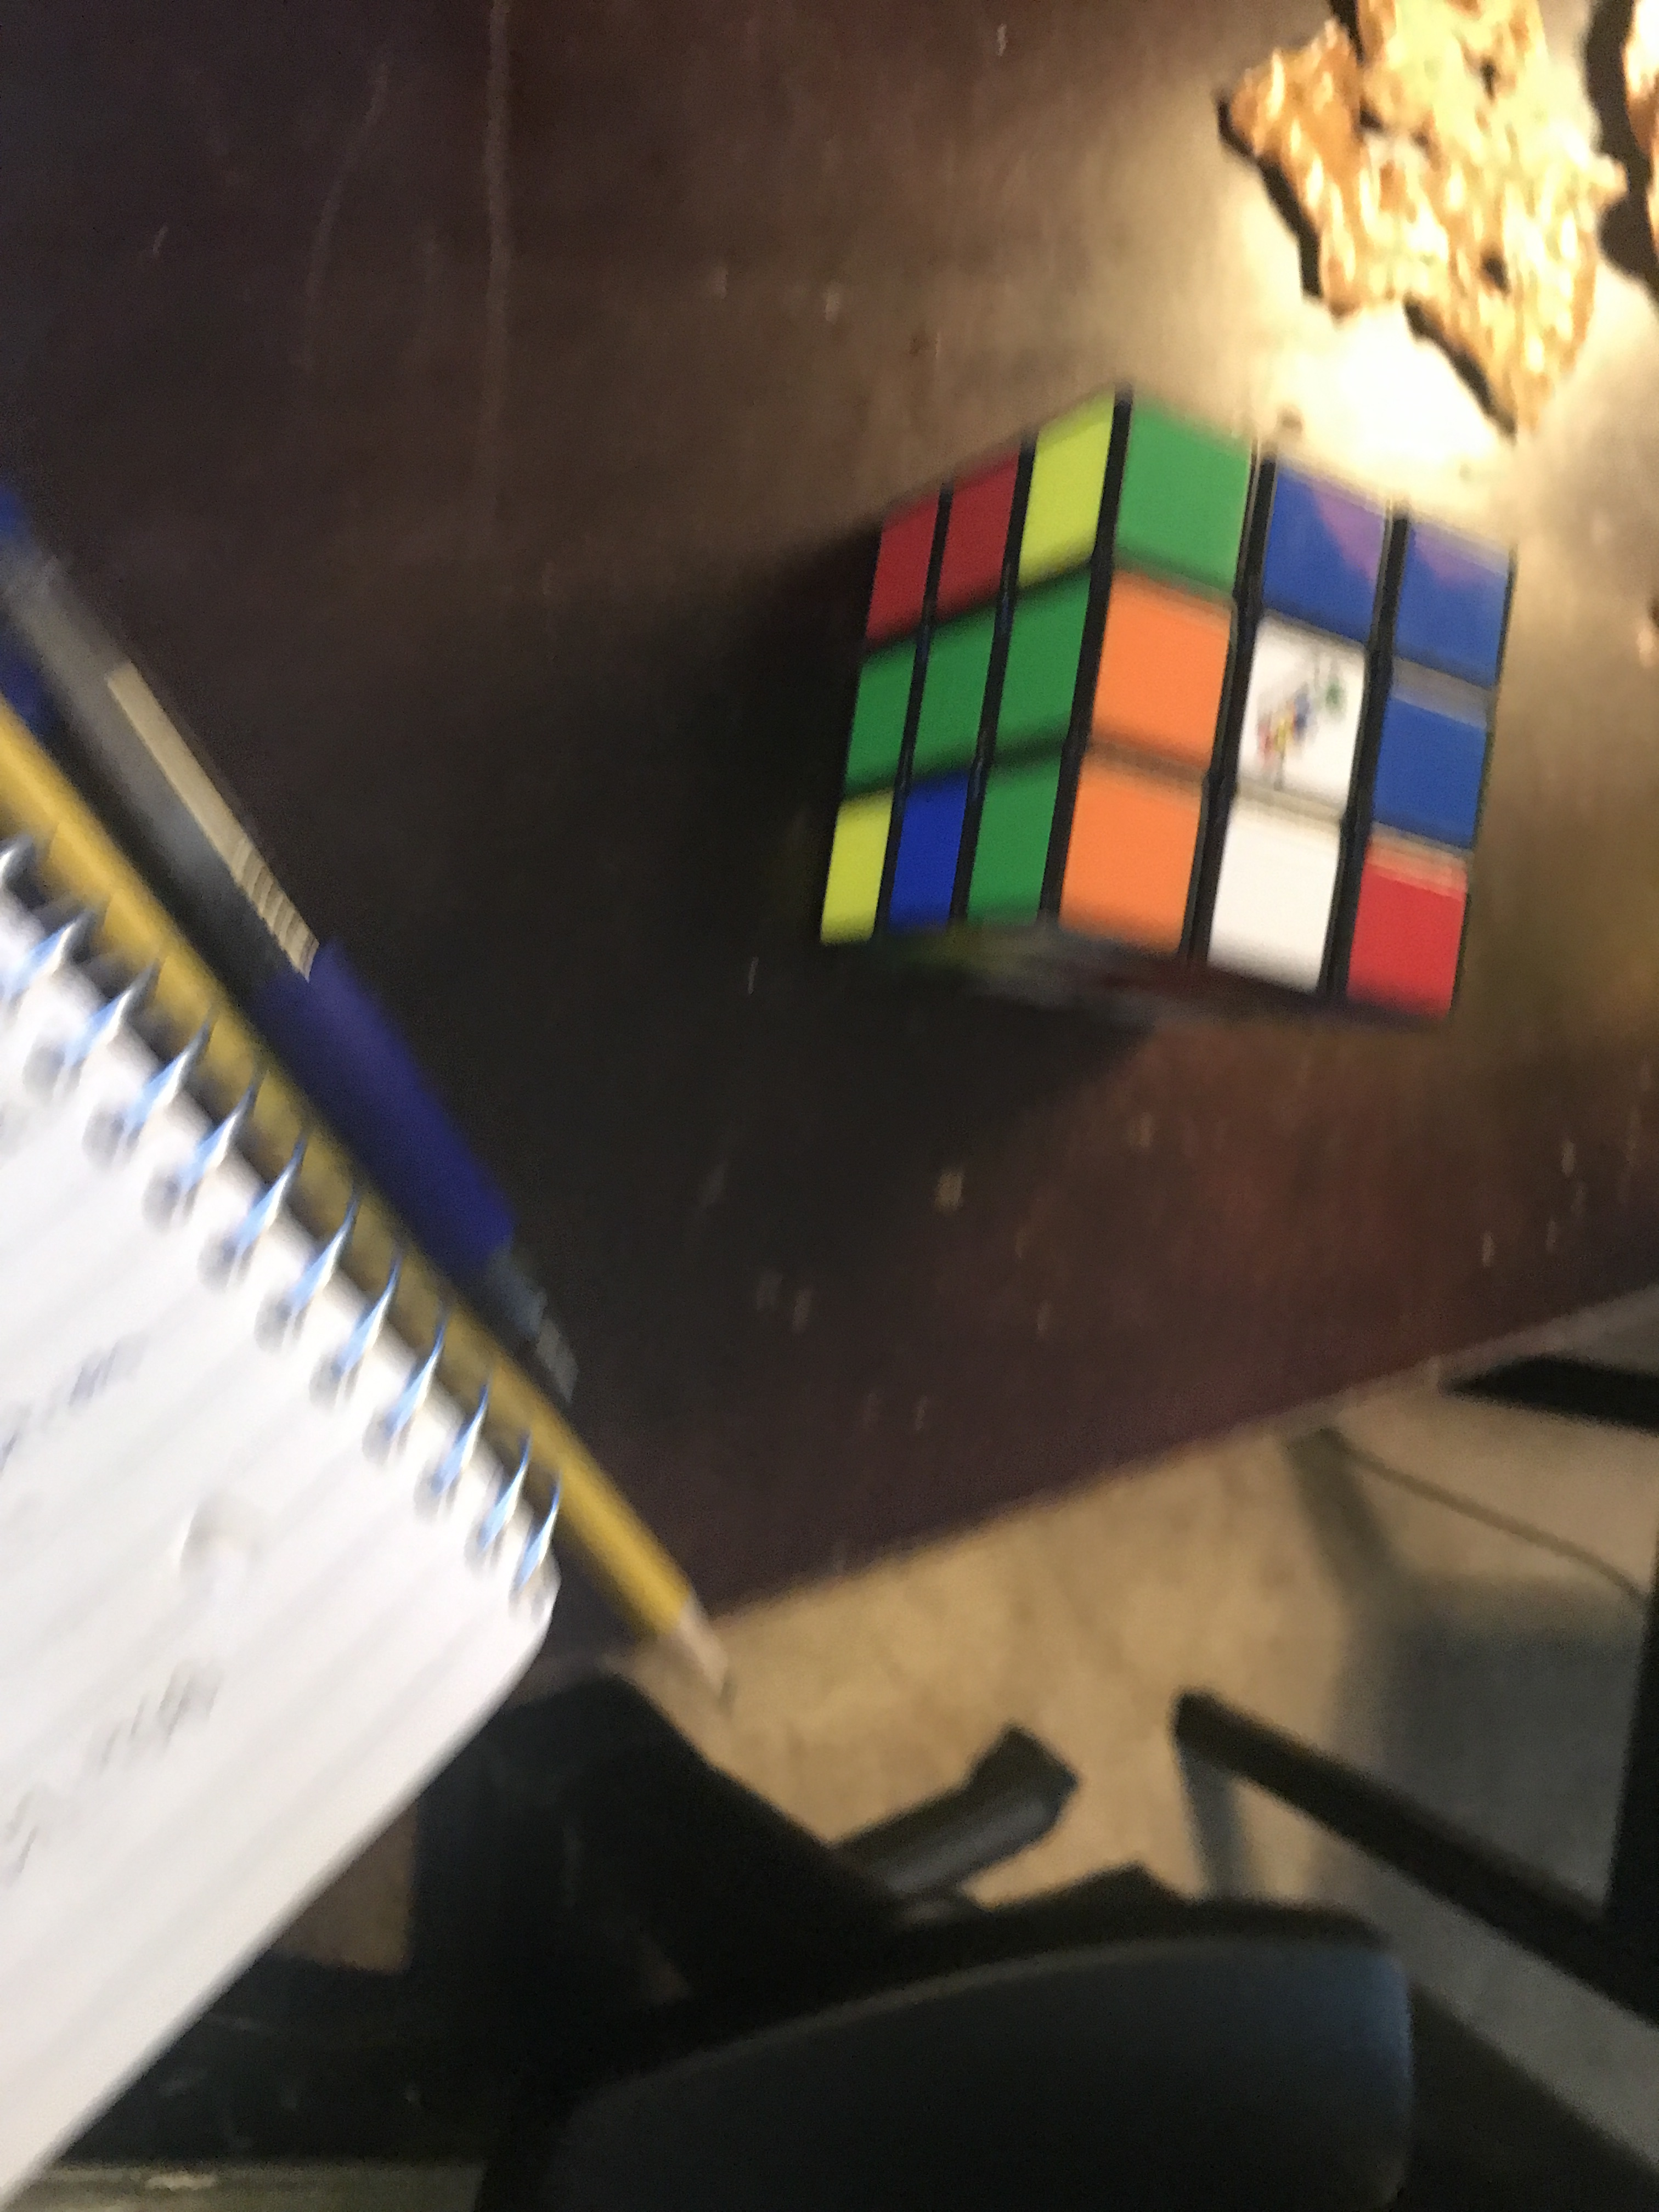rubiks: (795, 366, 1516, 1036)
